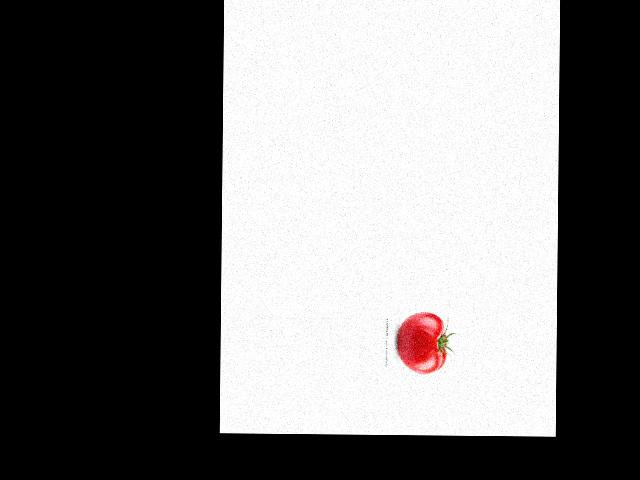tomato: (397, 311, 446, 374)
